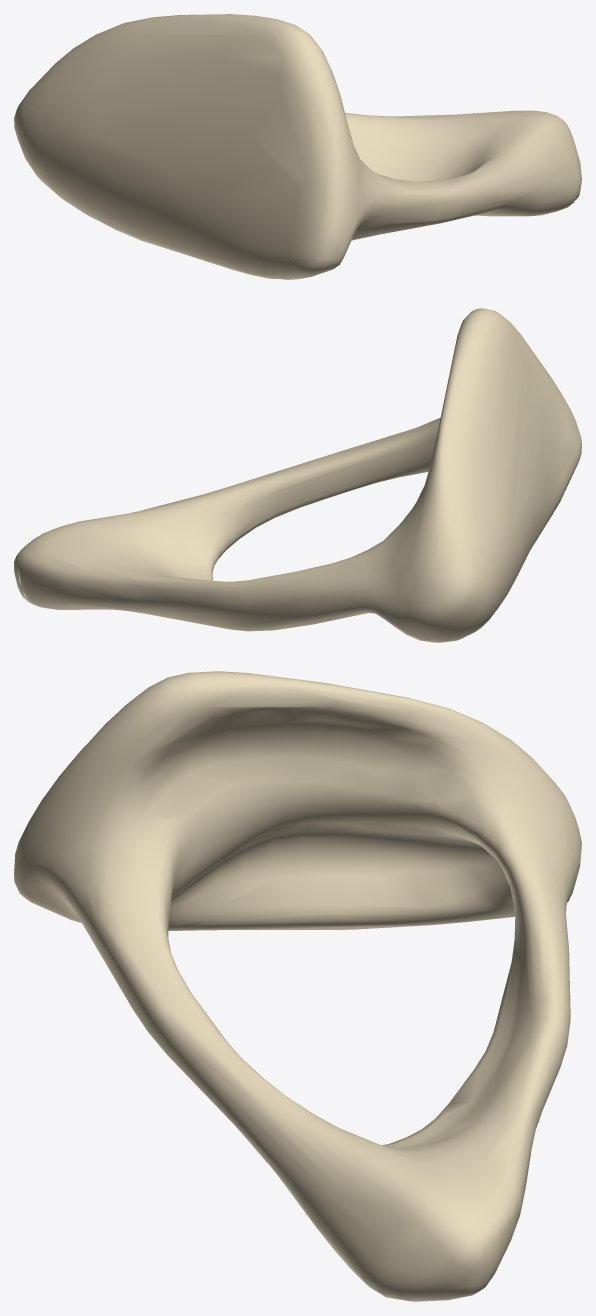
Rendered from esqueleto-stapes-l.glb.
The picture shows the model from 3 angles, top to bottom: view 1: azimuth 30°, elevation 25°; view 2: azimuth 150°, elevation 25°; view 3: azimuth 270°, elevation 25°; orthographic projection. The views are drawn at different scales.
Parts seen in each view (by area): view 1: Stapes.l; view 2: Stapes.l; view 3: Stapes.l.
Part boxes in pixels (x1=…): Stapes.l: x1=14, y1=14, x2=581, y2=279; Stapes.l: x1=14, y1=308, x2=581, y2=642; Stapes.l: x1=14, y1=671, x2=581, y2=1301.
Bounding box in the file's own units: 0.00405 × 0.00243 × 0.00305.
